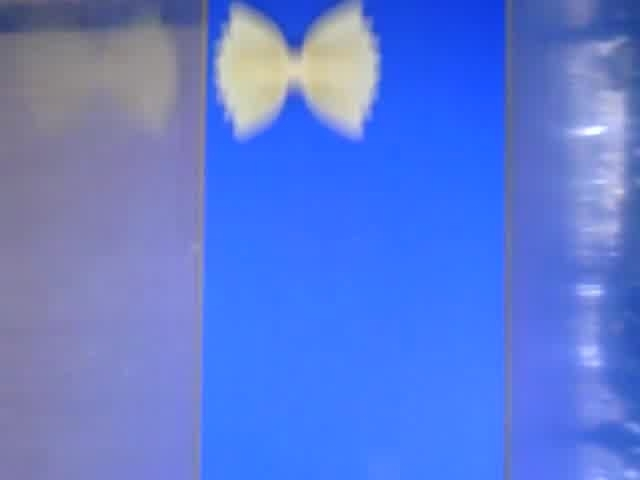farfalle: (215, 5, 381, 138)
